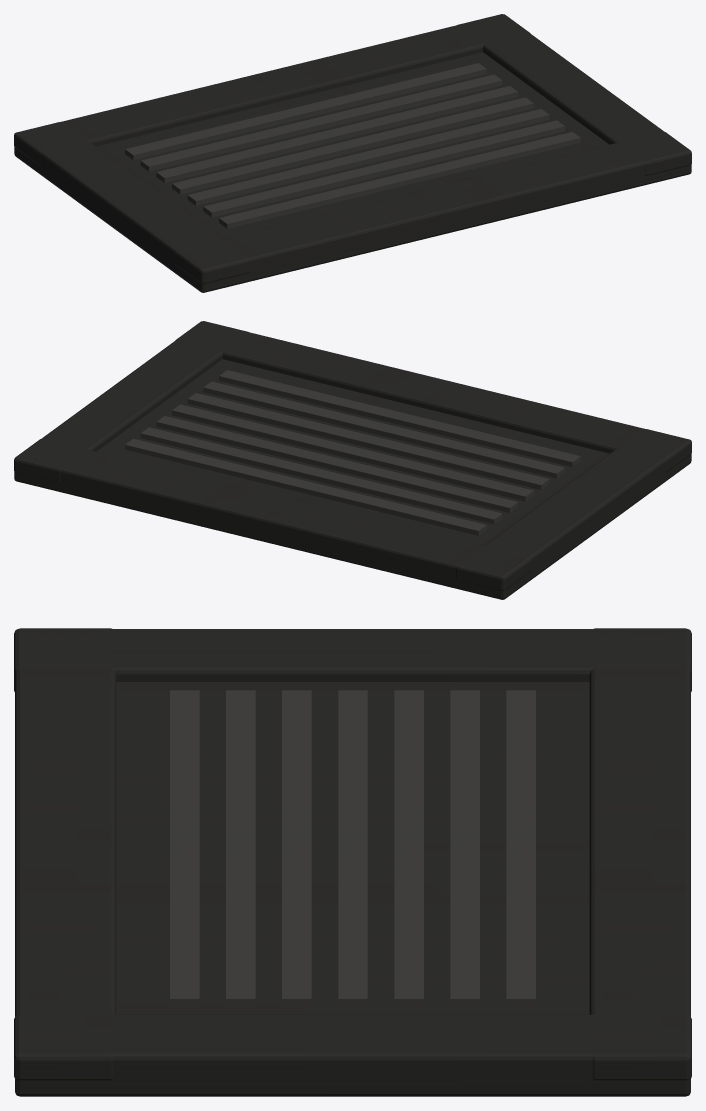
Rendered from road_drain_grate.glb.
3 views of the same model, one above another, from view 1: azimuth 30°, elevation 25°; view 2: azimuth 150°, elevation 25°; view 3: azimuth 270°, elevation 25° (orthographic). The views are drawn at different scales.
Visible parts, largest first — view 1: road_drain_grate_bed, road_drain_grate_rail_n, road_drain_grate_rail_s, road_drain_grate_rail_w, road_drain_grate_rail_e, road_drain_grate_grate_bar5, road_drain_grate_grate_bar2, road_drain_grate_grate_bar1, road_drain_grate_grate_bar4, road_drain_grate_grate_bar0, road_drain_grate_grate_bar3, road_drain_grate_grate_bar6; view 2: road_drain_grate_bed, road_drain_grate_rail_s, road_drain_grate_rail_n, road_drain_grate_rail_w, road_drain_grate_rail_e, road_drain_grate_grate_bar1, road_drain_grate_grate_bar4, road_drain_grate_grate_bar5, road_drain_grate_grate_bar2, road_drain_grate_grate_bar6, road_drain_grate_grate_bar0, road_drain_grate_grate_bar3; view 3: road_drain_grate_bed, road_drain_grate_rail_s, road_drain_grate_rail_n, road_drain_grate_rail_w, road_drain_grate_rail_e, road_drain_grate_grate_bar0, road_drain_grate_grate_bar1, road_drain_grate_grate_bar2, road_drain_grate_grate_bar3, road_drain_grate_grate_bar4, road_drain_grate_grate_bar5, road_drain_grate_grate_bar6.
Part boxes in pixels (x1,y1,x2,y2): road_drain_grate_bed: (14,52,691,292); road_drain_grate_rail_n: (174,131,691,283); road_drain_grate_rail_s: (14,14,530,165); road_drain_grate_rail_w: (15,122,249,283); road_drain_grate_rail_e: (457,14,691,175); road_drain_grate_grate_bar5: (140,74,502,171); road_drain_grate_grate_bar2: (187,109,549,205); road_drain_grate_grate_bar1: (203,120,565,217); road_drain_grate_grate_bar4: (156,86,518,182); road_drain_grate_grate_bar0: (219,132,580,228); road_drain_grate_grate_bar3: (172,97,533,194); road_drain_grate_grate_bar6: (125,63,486,159); road_drain_grate_bed: (14,359,691,599); road_drain_grate_rail_s: (14,438,531,590); road_drain_grate_rail_n: (175,321,691,472); road_drain_grate_rail_w: (456,429,690,590); road_drain_grate_rail_e: (14,321,248,482); road_drain_grate_grate_bar1: (203,381,565,478); road_drain_grate_grate_bar4: (156,416,518,512); road_drain_grate_grate_bar5: (140,427,502,524); road_drain_grate_grate_bar2: (187,393,549,489); road_drain_grate_grate_bar6: (125,439,486,535); road_drain_grate_grate_bar0: (219,370,580,466); road_drain_grate_grate_bar3: (172,404,533,501); road_drain_grate_bed: (15,682,690,1096); road_drain_grate_rail_s: (589,628,690,1080); road_drain_grate_rail_n: (15,628,116,1080); road_drain_grate_rail_w: (14,629,691,691); road_drain_grate_rail_e: (14,1014,691,1079); road_drain_grate_grate_bar0: (170,690,199,1007); road_drain_grate_grate_bar1: (226,690,255,1007); road_drain_grate_grate_bar2: (282,690,311,1007); road_drain_grate_grate_bar3: (338,690,367,1007); road_drain_grate_grate_bar4: (394,690,423,1007); road_drain_grate_grate_bar5: (450,690,479,1007); road_drain_grate_grate_bar6: (506,690,535,1007).
Bounding box in the file's own units: 1.2 × 0.056 × 0.802.
2 materials, 2 textured.
